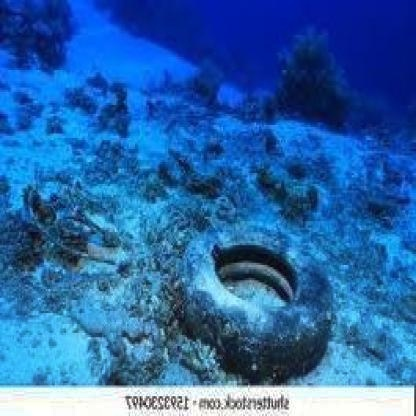tire: (180, 210, 336, 374)
